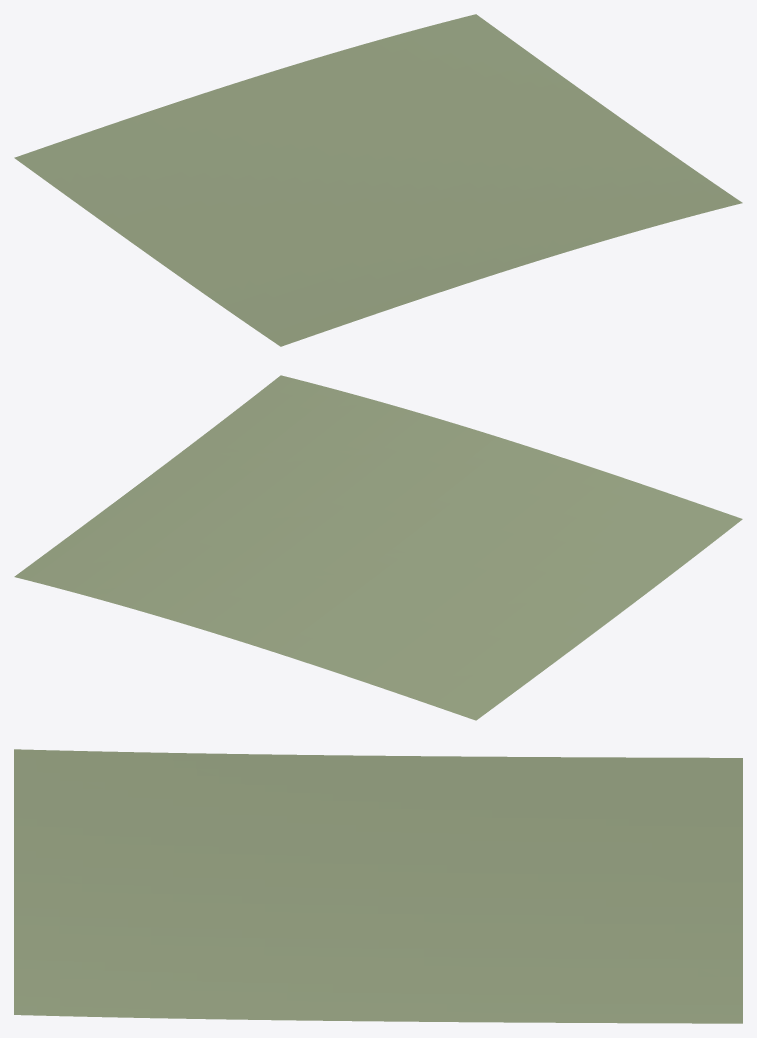
The model's file is valley-10-11.glb.
The picture shows the model from 3 angles, top to bottom: view 1: azimuth 30°, elevation 25°; view 2: azimuth 150°, elevation 25°; view 3: azimuth 270°, elevation 25°; orthographic projection. The views are drawn at different scales.
Visible parts, largest first — view 1: valley-10-11; view 2: valley-10-11; view 3: valley-10-11.
Boxes of the visible parts, bbox=[...] form: valley-10-11: bbox=[14, 14, 742, 346]; valley-10-11: bbox=[14, 375, 742, 720]; valley-10-11: bbox=[14, 749, 742, 1023].
Bounding box in the file's own units: 256 × 19.78 × 256.
